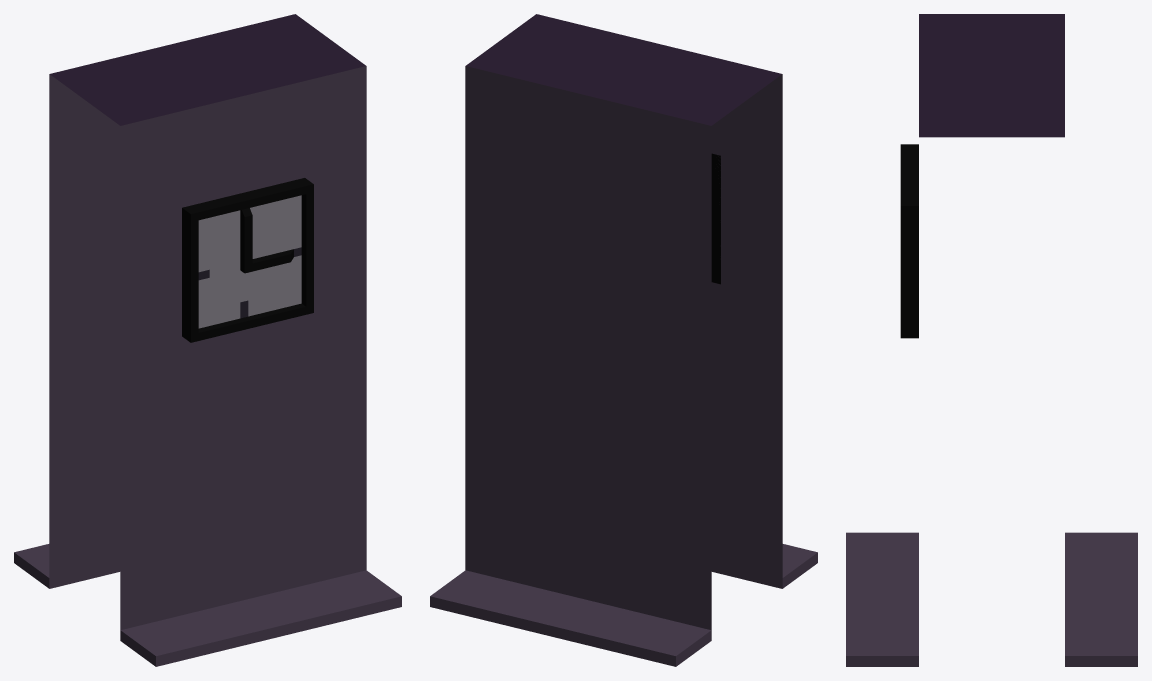
The model's file is wall_clock.dae.
3 renders of one model, left to right at view 1: azimuth 30°, elevation 25°; view 2: azimuth 150°, elevation 25°; view 3: azimuth 270°, elevation 25°, orthographic. The views are drawn at different scales.
Visible parts, largest first — view 1: wall_clock_MSH; view 2: wall_clock_MSH; view 3: wall_clock_MSH.
Boxes of the visible parts, bbox=[...] form: wall_clock_MSH: bbox=[14, 14, 401, 666]; wall_clock_MSH: bbox=[430, 14, 817, 666]; wall_clock_MSH: bbox=[846, 14, 1137, 666].
Bounding box in the file's own units: 1 × 2 × 1.
